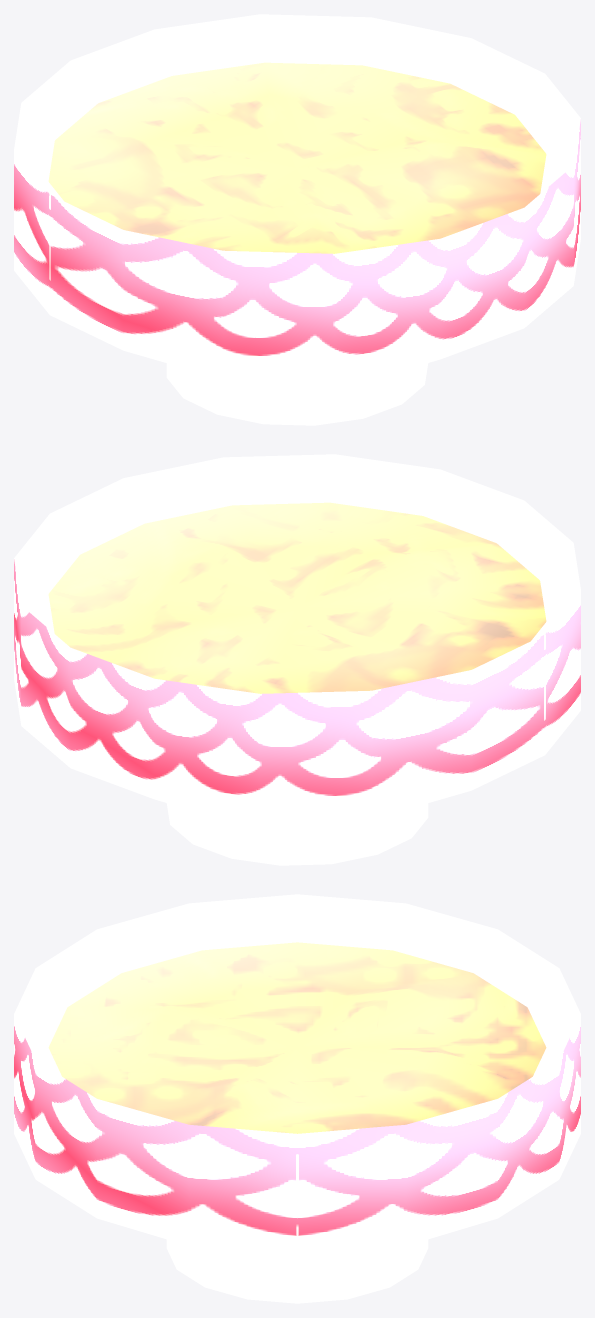
Rendered from bowl.glb.
3 renders of one model, top to bottom at view 1: azimuth 30°, elevation 25°; view 2: azimuth 150°, elevation 25°; view 3: azimuth 270°, elevation 25°, orthographic.
Parts seen in each view (by area): view 1: Cylinder; view 2: Cylinder; view 3: Cylinder.
Part boxes in pixels (bbox=[...]): Cylinder: bbox=[14, 14, 580, 425]; Cylinder: bbox=[14, 454, 580, 865]; Cylinder: bbox=[14, 894, 580, 1303].
Size of the model in its own units: 4.34 by 1.98 by 4.34.
